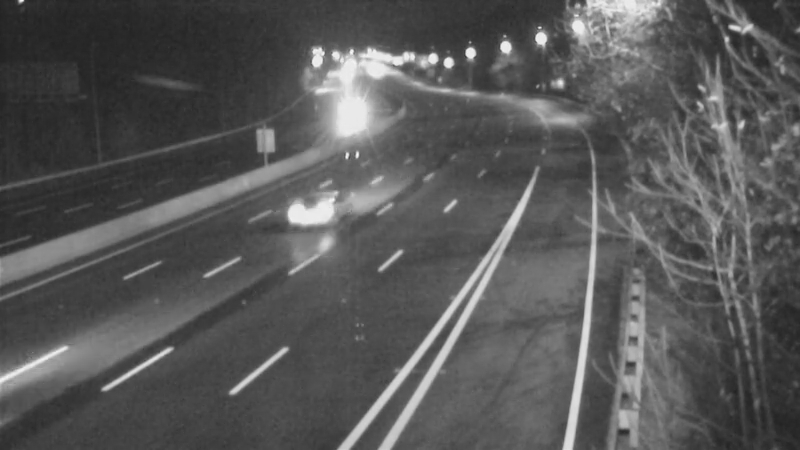vehicle: (273, 173, 353, 253), (323, 93, 373, 143)
